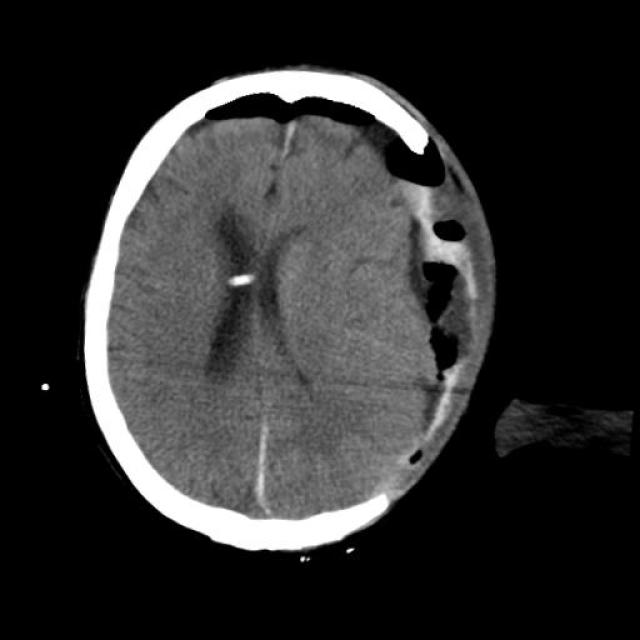Subdural: (235, 413, 321, 535)
